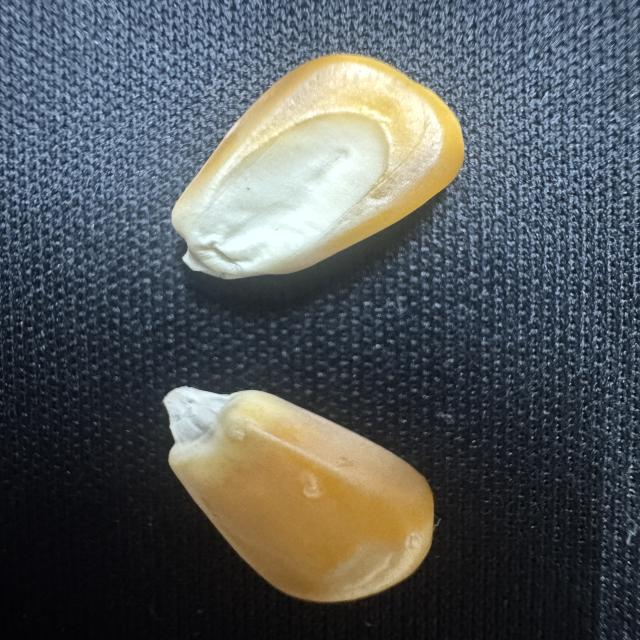Good-Seed: (151, 42, 475, 287), (153, 378, 448, 605)
